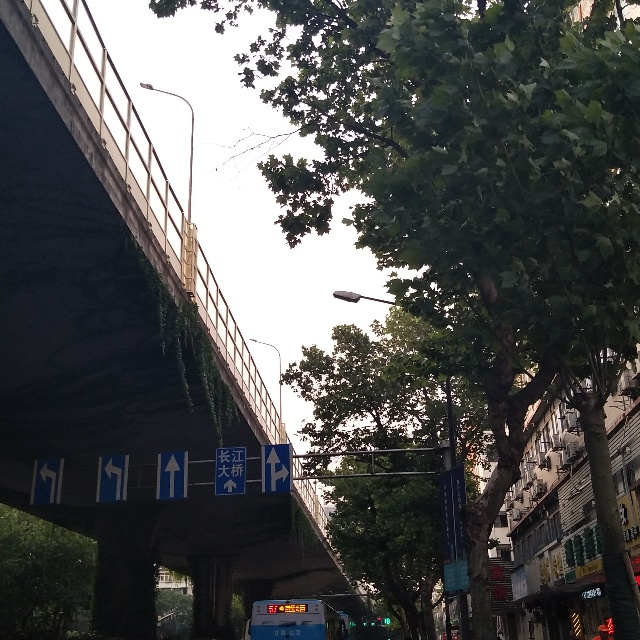left: (95, 455, 128, 502), (31, 458, 66, 502)
straight: (160, 451, 187, 500)
